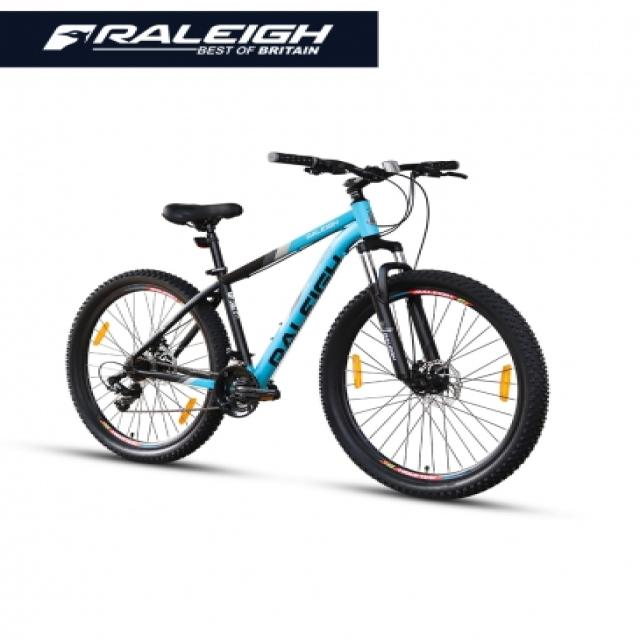bicycle: (67, 152, 546, 498)
